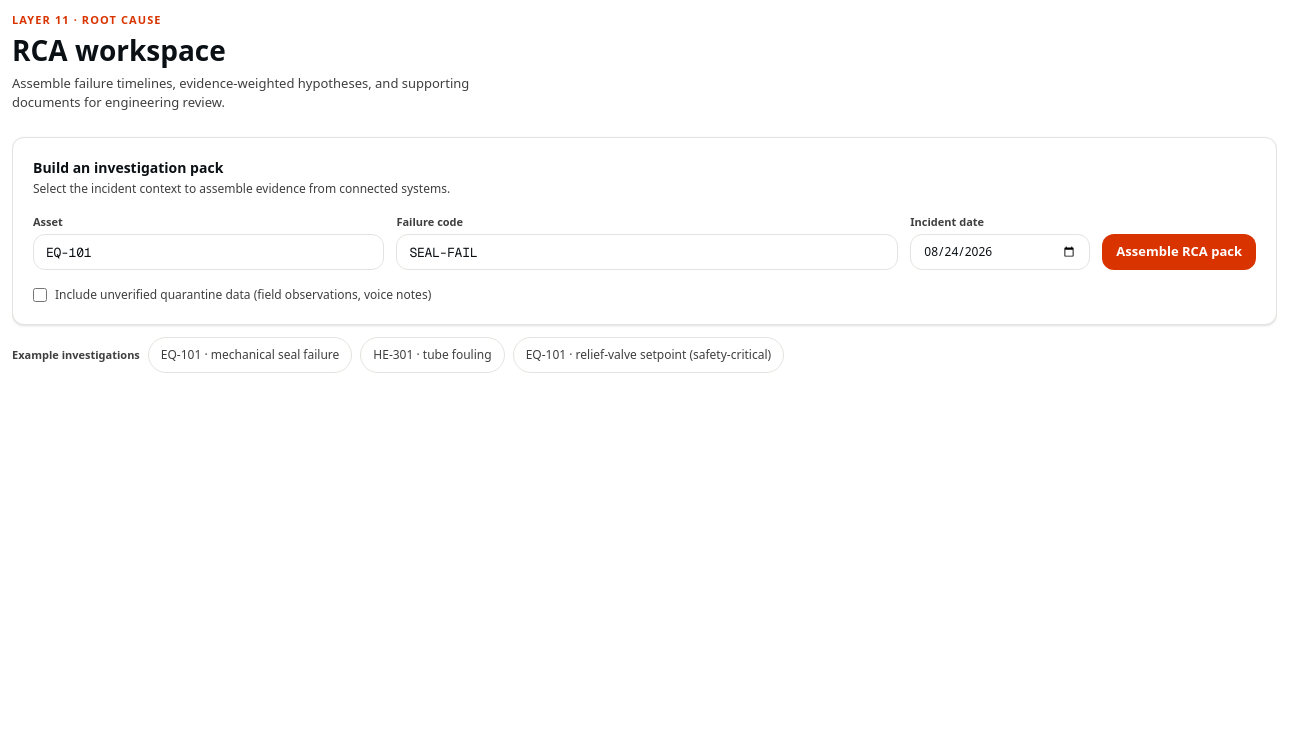
RcaPage › renders dashes, not crashes, for missing confidence and evidence weights
The width and height of the screenshot is (1292, 732).
Step 1. Click the button "Assemble RCA pack" → (1179,252), box [1102,234,1256,270]
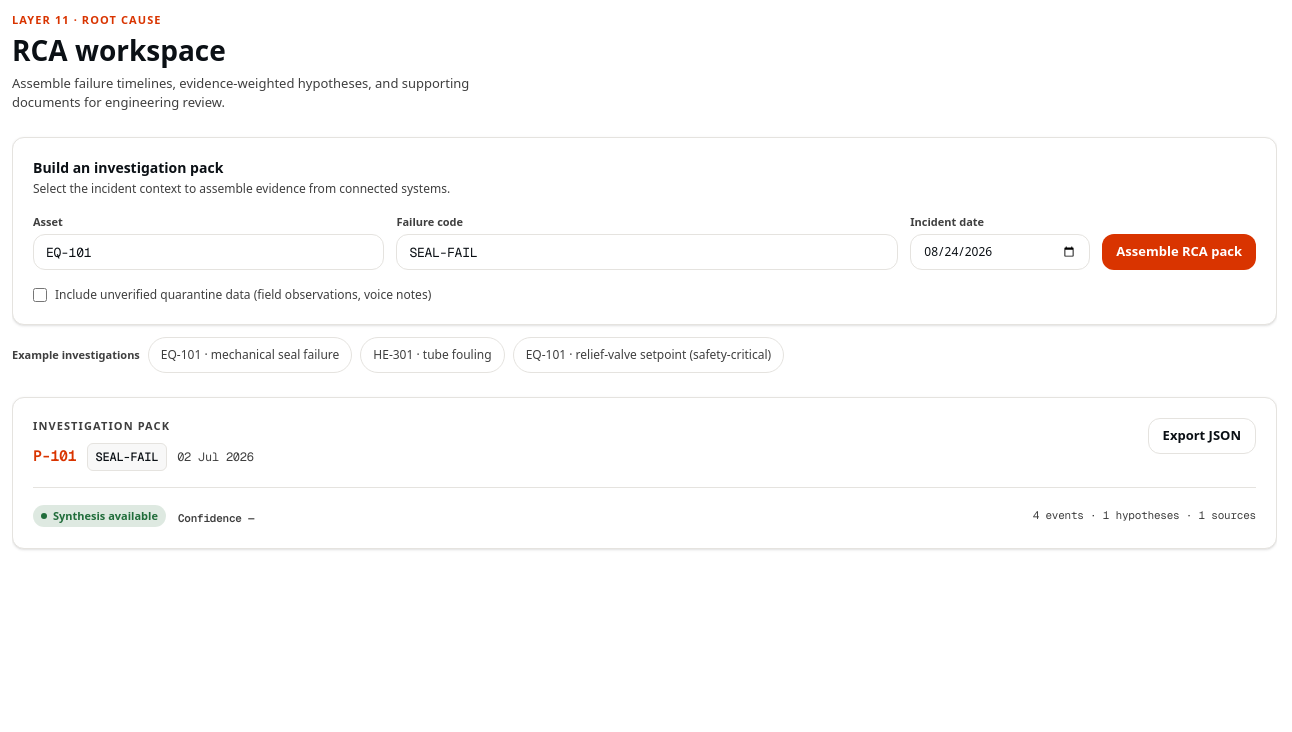
expect the text "Confidence —" is shown: met, box [178,510,254,524]
